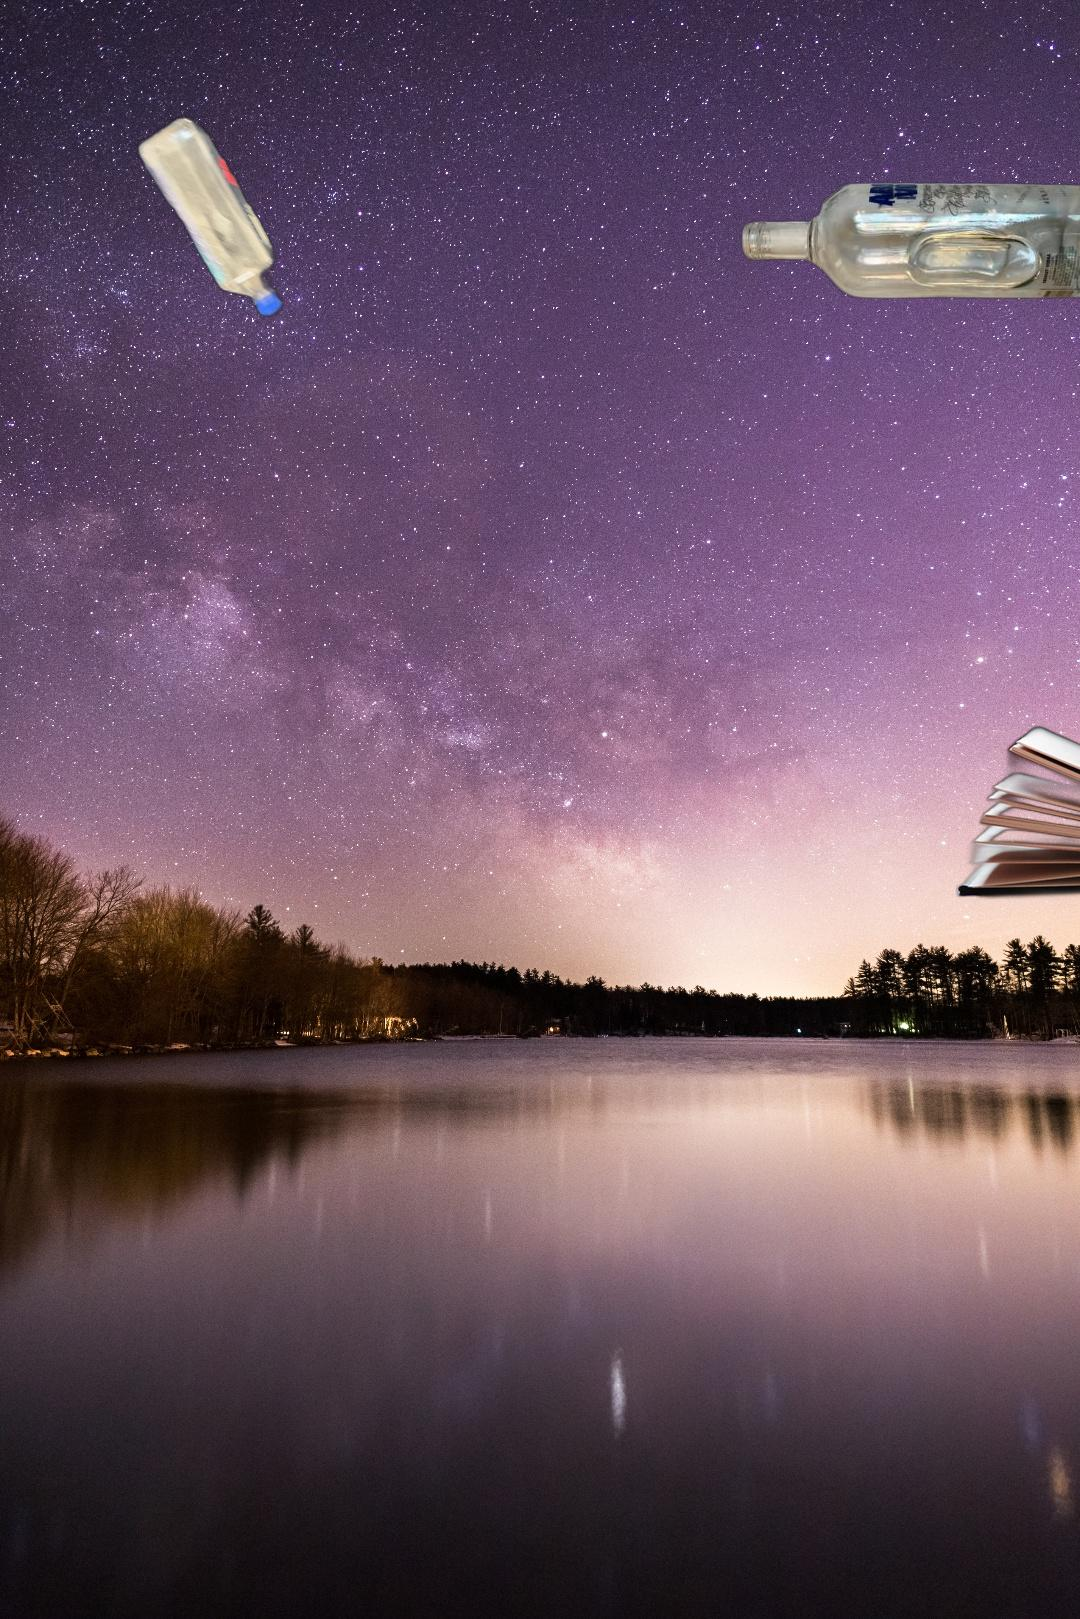biological: (950, 593, 1080, 907)
glass: (736, 180, 1080, 300)
plastic-bottles: (133, 111, 287, 323)
